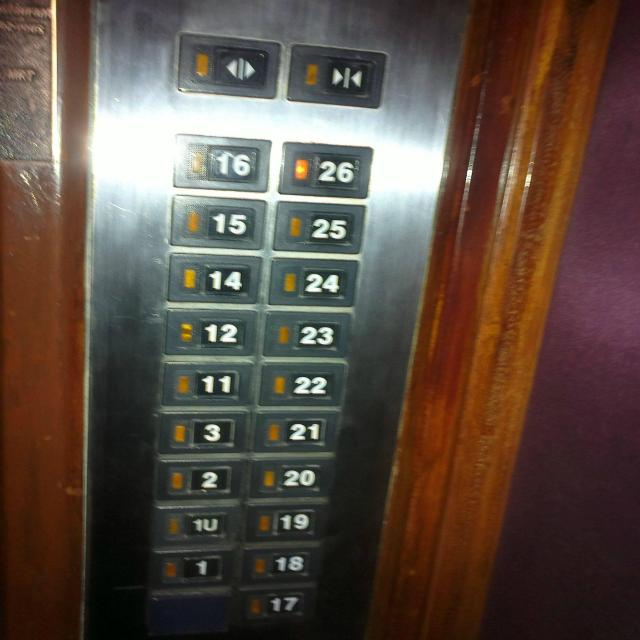1: (143, 548, 242, 591)
11: (158, 356, 258, 409)
12: (160, 306, 262, 361)
14: (164, 251, 264, 307)
15: (167, 193, 267, 251)
16: (171, 132, 273, 193)
17: (232, 583, 322, 626)
18: (237, 541, 326, 591)
19: (241, 498, 333, 547)
1U: (146, 502, 244, 548)
2: (149, 454, 251, 502)
20: (244, 455, 338, 501)
21: (248, 407, 344, 455)
22: (252, 356, 351, 409)
23: (257, 308, 357, 361)
24: (265, 252, 362, 308)
25: (271, 198, 368, 256)
26: (275, 140, 375, 199)
3: (153, 408, 254, 455)
close: (284, 39, 389, 112)
open: (174, 30, 283, 102)
